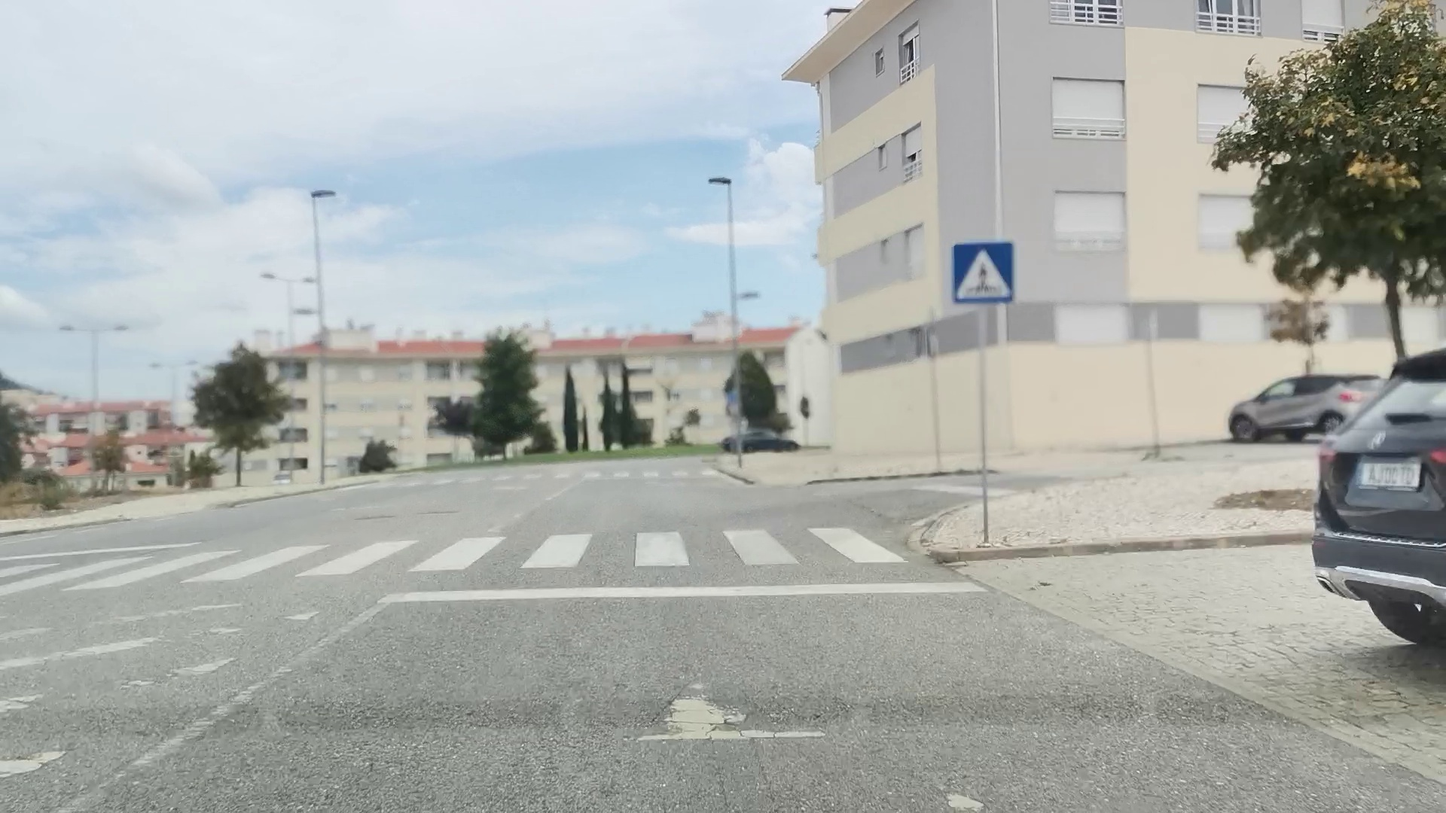Stairs: (0, 527, 911, 582)
